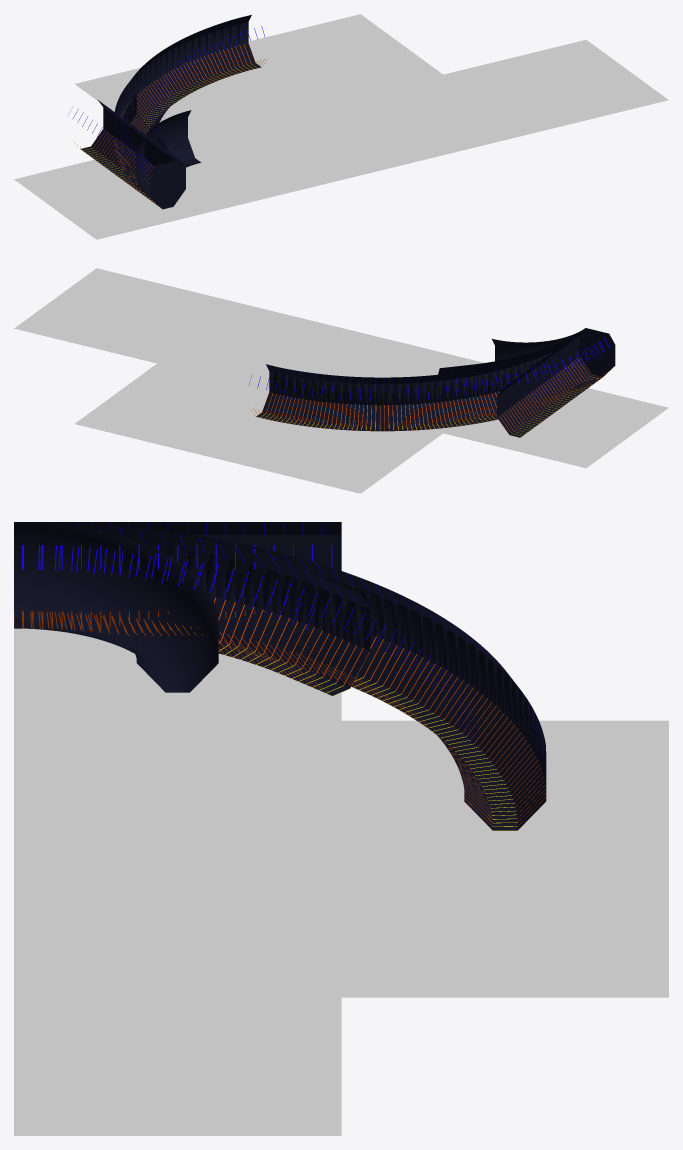
The model's file is Canyon var1.FBX.
The picture shows the model from 3 angles, top to bottom: view 1: azimuth 30°, elevation 25°; view 2: azimuth 150°, elevation 25°; view 3: azimuth 270°, elevation 25°; orthographic projection. The views are drawn at different scales.
Visible parts, largest first — view 1: Boîte006, Boîte007, Boîte009, Boîte005, Boîte001, rightcurvelarge, Boîte008, straight, rightcurve, Objet004, rightcurvelight; view 2: rightcurvelarge, Boîte007, Boîte009, Boîte006, Boîte008, Boîte001, straight, Boîte005, Objet004, rightcurvelight, rightcurve; view 3: Boîte005, Boîte006, Boîte007, Boîte009, Boîte008, rightcurvelarge, rightcurve, rightcurvelight, Boîte001, straight.
Part boxes in pixels (box(x1,y1,x2,y2)): Boîte006: box(300, 74, 525, 169); Boîte007: box(443, 39, 668, 134); Boîte009: box(248, 14, 442, 109); Boîte005: box(188, 109, 382, 204); Boîte001: box(14, 159, 239, 239); rightcurvelarge: box(114, 15, 265, 202); Boîte008: box(75, 68, 299, 136); straight: box(68, 100, 179, 208); rightcurve: box(136, 110, 200, 207); Objet004: box(150, 160, 185, 209); rightcurvelight: box(120, 89, 174, 197); rightcurvelarge: box(248, 331, 608, 431); Boîte007: box(14, 268, 239, 363); Boîte009: box(75, 363, 269, 458); Boîte006: box(157, 303, 382, 390); Boîte008: box(218, 420, 442, 493); Boîte001: box(443, 388, 668, 468); straight: box(497, 328, 612, 437); Boîte005: box(332, 338, 484, 433); Objet004: box(579, 328, 615, 377); rightcurvelight: box(438, 335, 609, 420); rightcurve: box(492, 330, 599, 390); Boîte005: box(14, 720, 341, 858); Boîte006: box(14, 859, 341, 997); Boîte007: box(14, 997, 341, 1135); Boîte009: box(341, 859, 668, 997); Boîte008: box(341, 720, 668, 858); rightcurvelarge: box(22, 522, 546, 830); rightcurve: box(14, 522, 218, 692); rightcurvelight: box(14, 522, 370, 695); Boîte001: box(14, 628, 341, 720); straight: box(14, 522, 341, 628).
Bounding box in the file's own units: 10.16 × 1.01 × 5.08.
